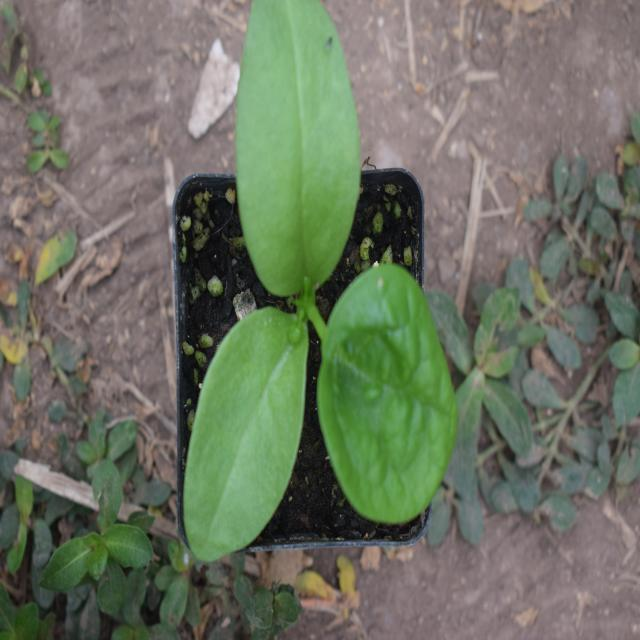Ceylon spinach: (181, 0, 461, 541)
